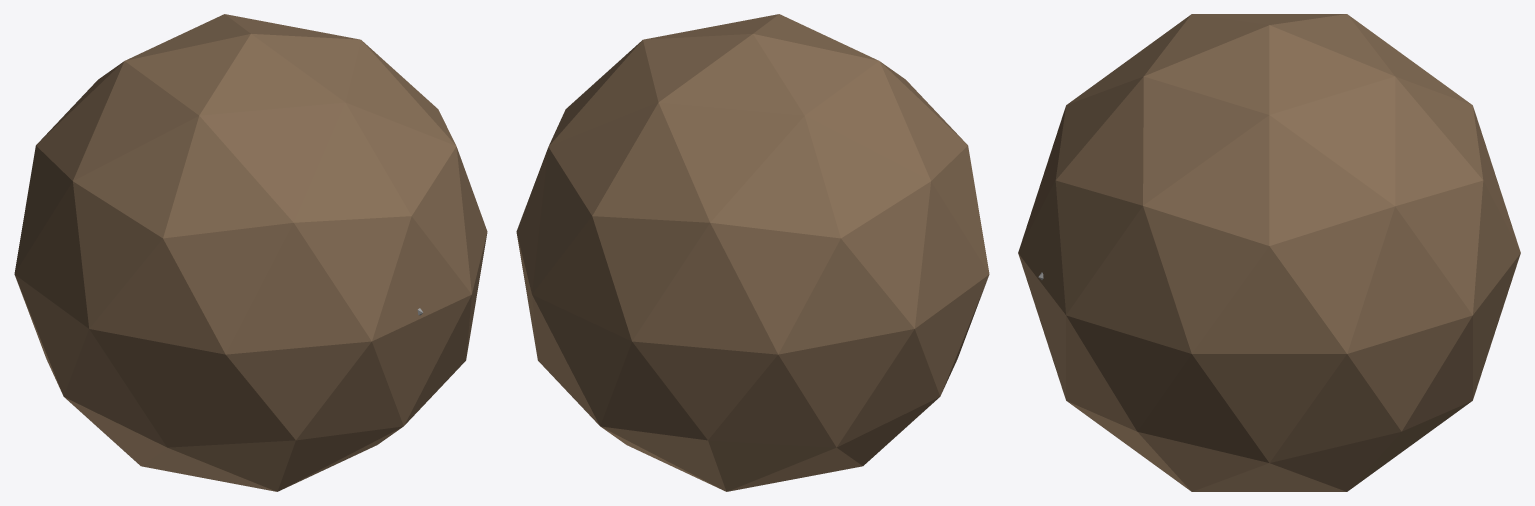
3 views of the same model, side by side, from view 1: azimuth 30°, elevation 25°; view 2: azimuth 150°, elevation 25°; view 3: azimuth 270°, elevation 25° (orthographic). The views are drawn at different scales.
Parts seen in each view (by area): view 1: Psyche-State-2-1; view 2: Psyche-State-2-1; view 3: Psyche-State-2-1.
Part boxes in pixels (x1=…): Psyche-State-2-1: x1=14, y1=14, x2=487, y2=491; Psyche-State-2-1: x1=516, y1=14, x2=989, y2=491; Psyche-State-2-1: x1=1018, y1=14, x2=1520, y2=491.
Size of what is drawn, in the model's own units: 0.7608 by 0.8 by 0.8.
